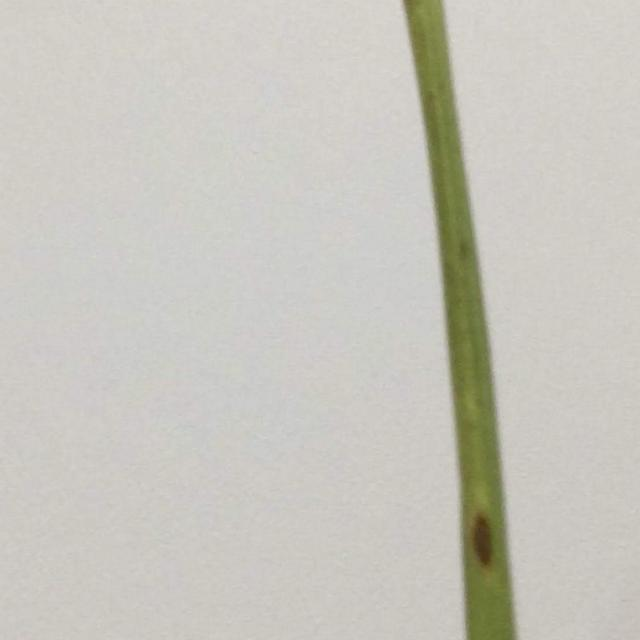Blast: (469, 512, 502, 572)
